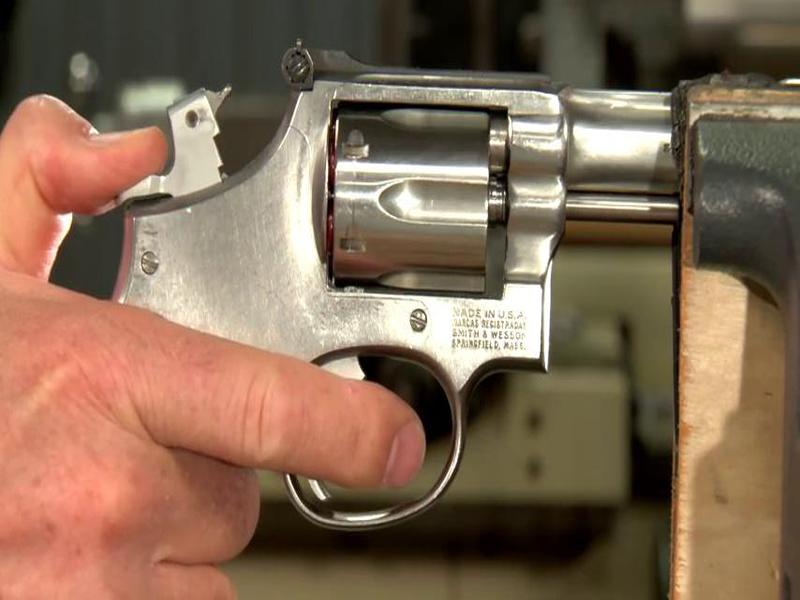Revolver: (45, 36, 793, 540)
